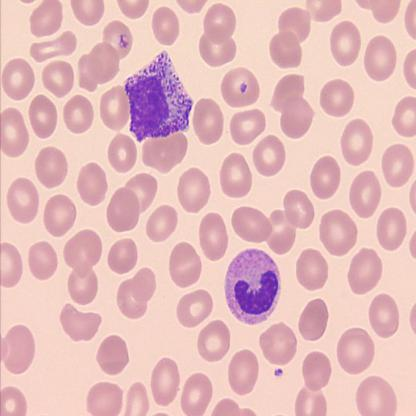Myelocyte: (126, 49, 194, 142), (226, 250, 281, 324)
